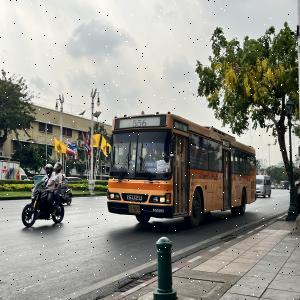BMTA-bus: (107, 113, 257, 228)
Bus Line Number: (131, 119, 149, 128), (177, 121, 185, 131)
Bus Side Number: (151, 207, 166, 214)
Destination Sign: (144, 161, 157, 173)
TSB-Bus: (282, 182, 290, 189)
